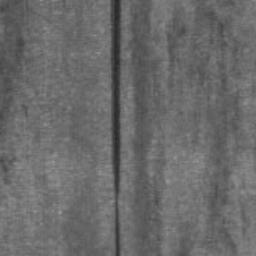Scratches: (111, 0, 121, 256)
